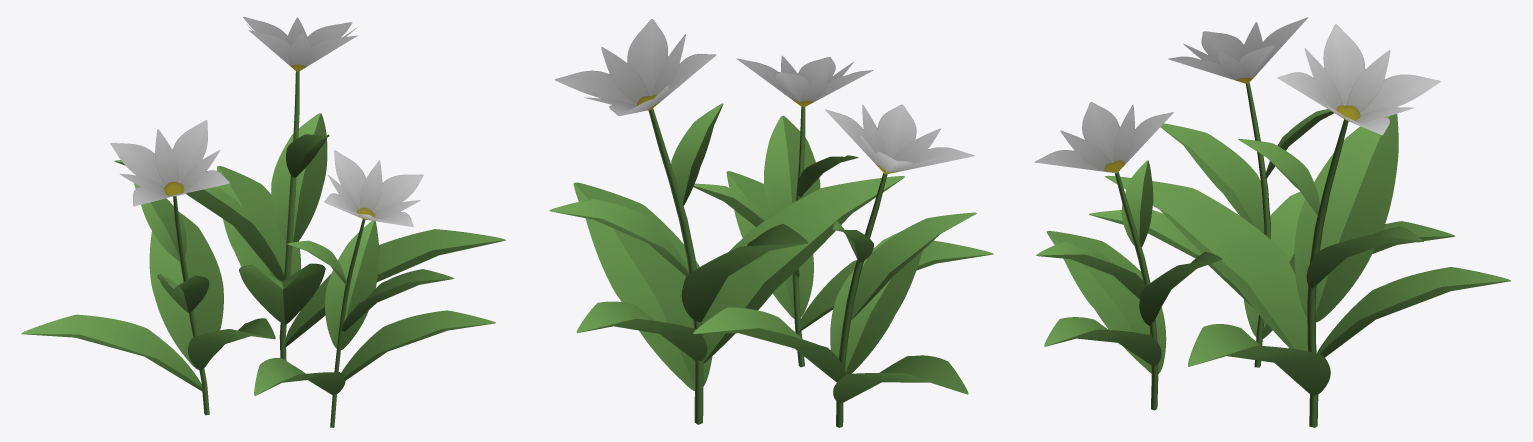
Rendered from Flowers_3.fbx.
3 views of the same model, side by side, from view 1: azimuth 30°, elevation 25°; view 2: azimuth 150°, elevation 25°; view 3: azimuth 270°, elevation 25° (orthographic). The views are drawn at different scales.
Visible parts, largest first — view 1: Flowers_3_LOD0; view 2: Flowers_3_LOD0; view 3: Flowers_3_LOD0.
Boxes of the visible parts, left/top/right/bottom form: Flowers_3_LOD0: left=21, top=16, right=505, bottom=427; Flowers_3_LOD0: left=549, top=19, right=993, bottom=427; Flowers_3_LOD0: left=1034, top=17, right=1510, bottom=427.
Size of what is drawn, in the model's own units: 57.7 by 44.36 by 50.13.
